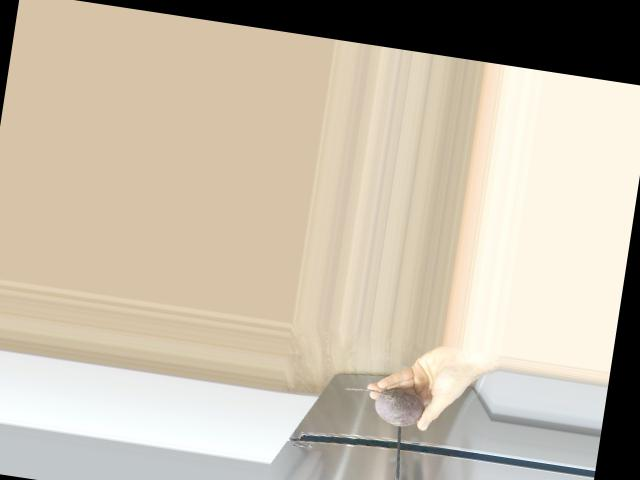beet: (340, 380, 426, 429)
